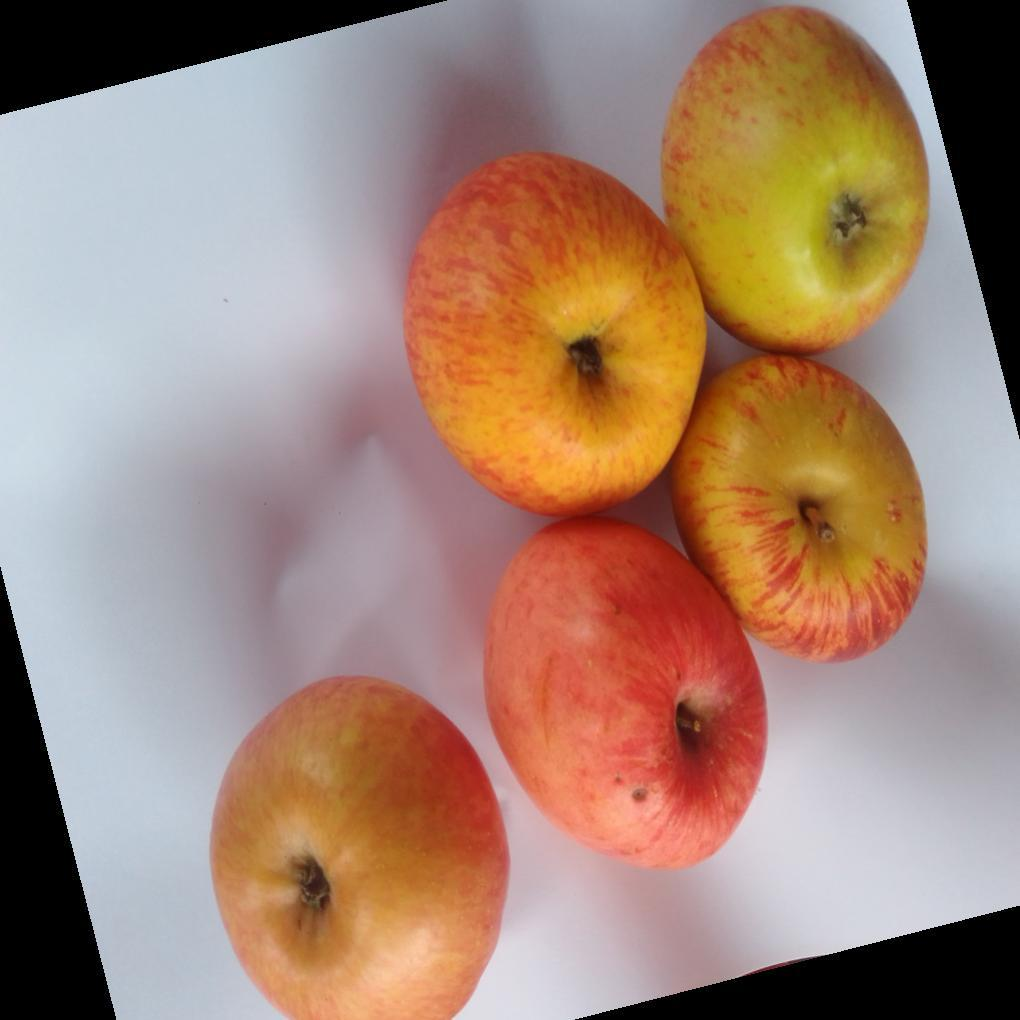FreshGuava: (403, 10, 931, 872), (209, 677, 510, 1020)
